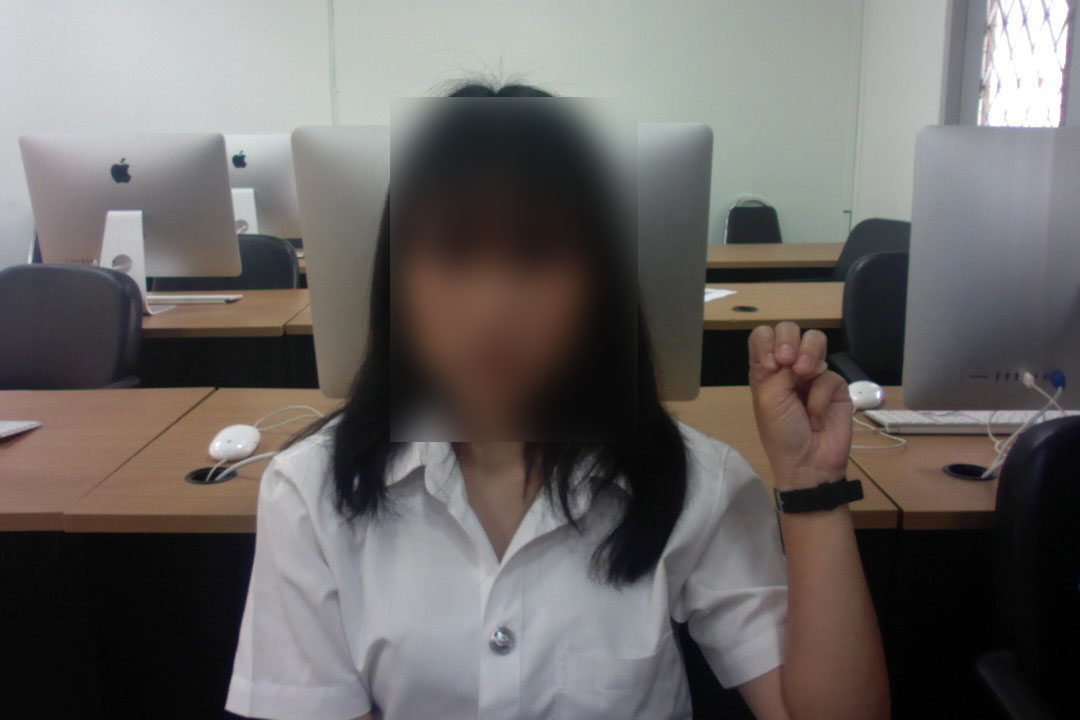mor: (740, 313, 863, 493)
